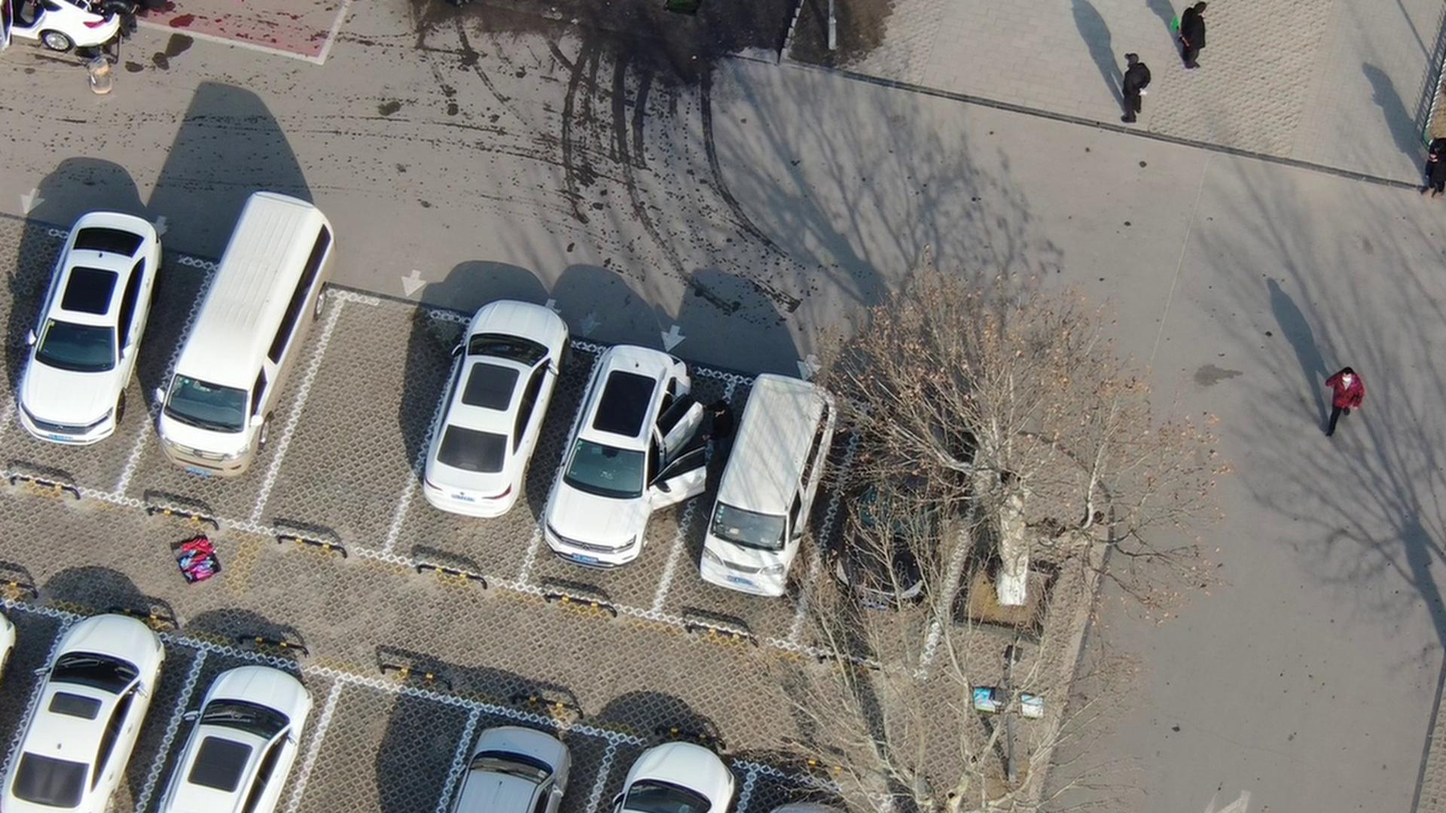human: (1308, 361, 1367, 449), (1110, 44, 1150, 142), (1171, 1, 1216, 78), (1408, 135, 1446, 219), (706, 396, 737, 460)
